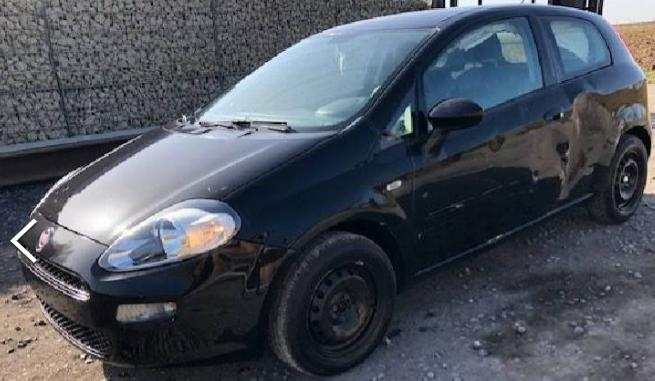Back-wheel: (586, 135, 648, 225)
Back-window: (538, 14, 613, 84)
Fender: (220, 119, 417, 281)
Front-bumper: (21, 211, 299, 366)
Front-door: (408, 14, 575, 273)
Front-wheel: (262, 227, 398, 376)
Front-window: (423, 17, 544, 135), (375, 71, 416, 156)
Grille: (18, 245, 90, 302)
Headlight: (98, 199, 242, 274), (28, 166, 90, 217)
Hood: (38, 117, 336, 248)
Mirror: (427, 97, 484, 157)
Quarter-panel: (558, 59, 652, 204)
Rocker-panel: (402, 182, 611, 293)
Roof: (331, 5, 498, 29)
Windshield: (181, 29, 434, 132)
